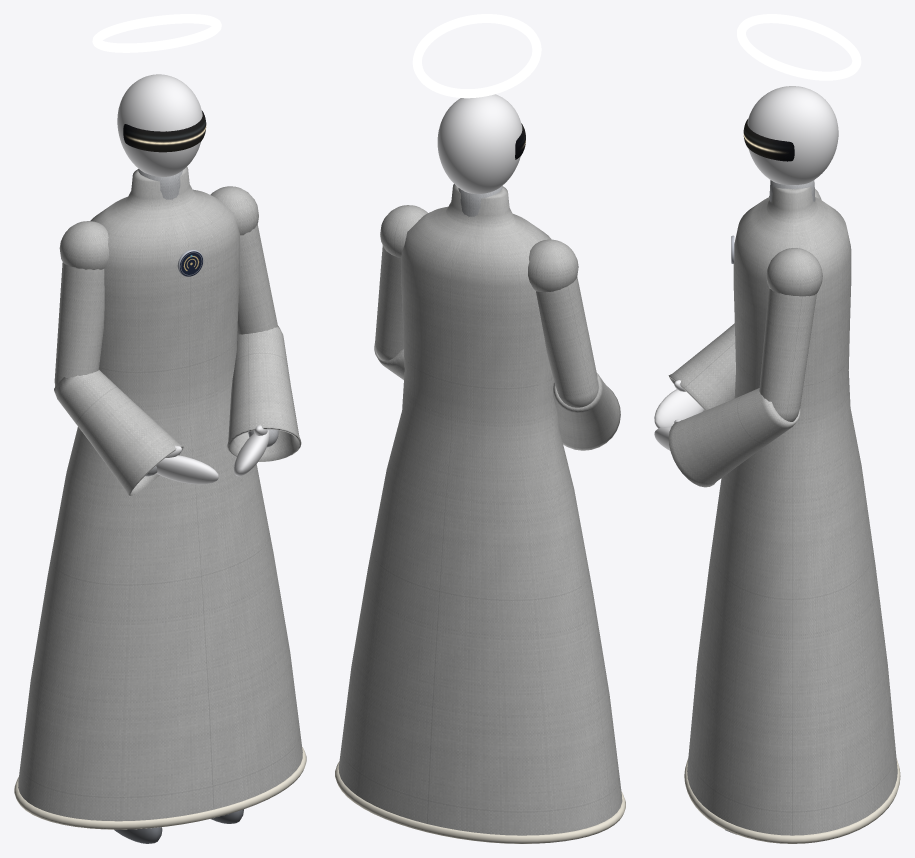
Rendered from omega.glb.
3 views of the same model, side by side, from view 1: azimuth 30°, elevation 25°; view 2: azimuth 150°, elevation 25°; view 3: azimuth 270°, elevation 25° (orthographic).
Visible parts, largest first — view 1: Avatar · Omega, Avatar · Omega · Halo; view 2: Avatar · Omega, Avatar · Omega · Halo; view 3: Avatar · Omega, Avatar · Omega · Halo.
Boxes of the visible parts, x1=… form: Avatar · Omega: x1=14, y1=74, x2=306, y2=843; Avatar · Omega · Halo: x1=92, y1=14, x2=221, y2=52; Avatar · Omega: x1=335, y1=94, x2=625, y2=843; Avatar · Omega · Halo: x1=412, y1=14, x2=541, y2=98; Avatar · Omega: x1=654, y1=86, x2=900, y2=843; Avatar · Omega · Halo: x1=737, y1=14, x2=861, y2=80.
Size of the model in its own units: 0.8143 by 2.28 by 0.6488.
Materials: 8 (4 with a texture image).
